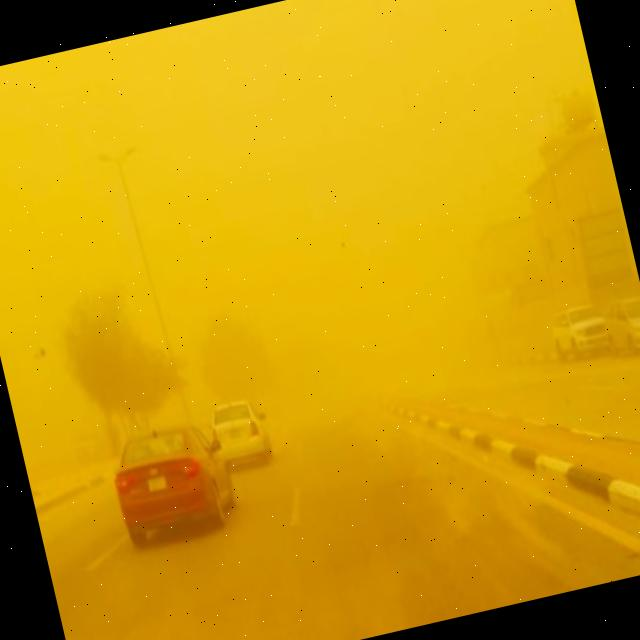car: (102, 414, 242, 552), (206, 396, 272, 472), (546, 300, 612, 362), (600, 290, 640, 362)
